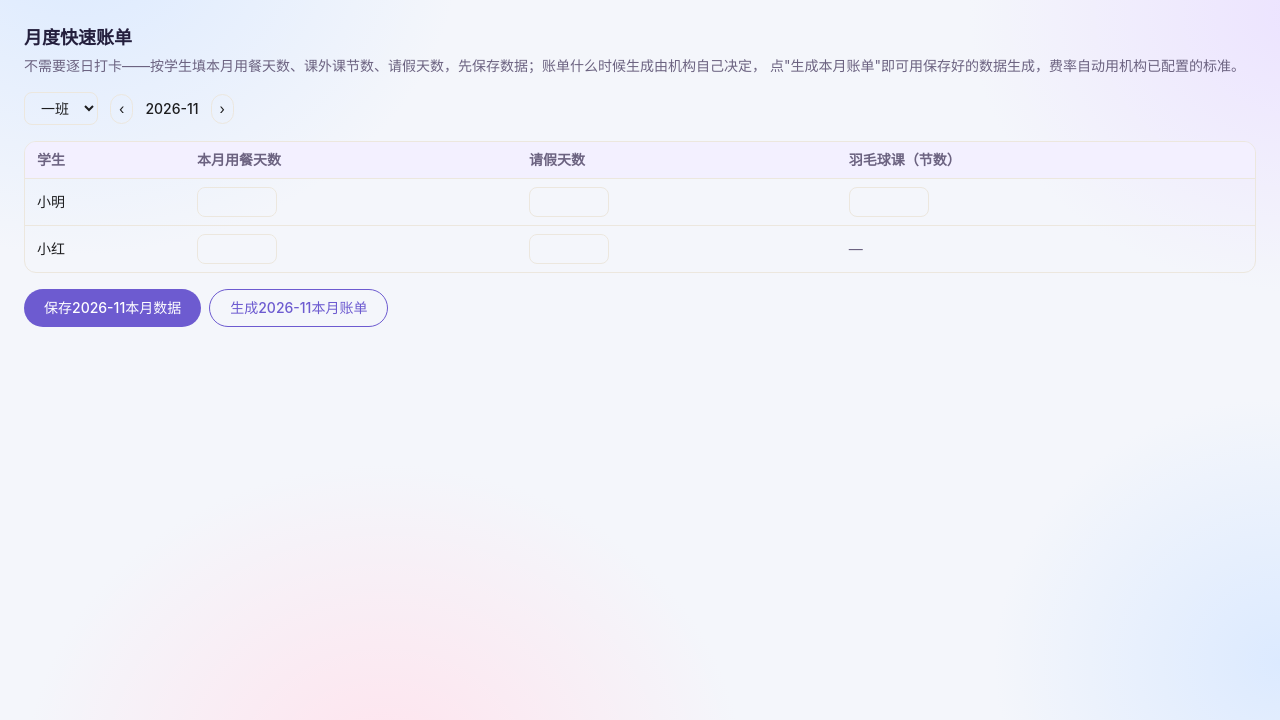
AdminMonthlyQuickBillModule › shows an error message when generating the bill fails
The image size is (1280, 720).
Check: the text "小明" is shown, box top-left (25, 178), bottom-right (185, 226)
What coordinates should you click on to do the following:
click the button "生成2026-11本月账单"
I would click on:
 (299, 308)
Its box is top-left (209, 289), bottom-right (388, 327).
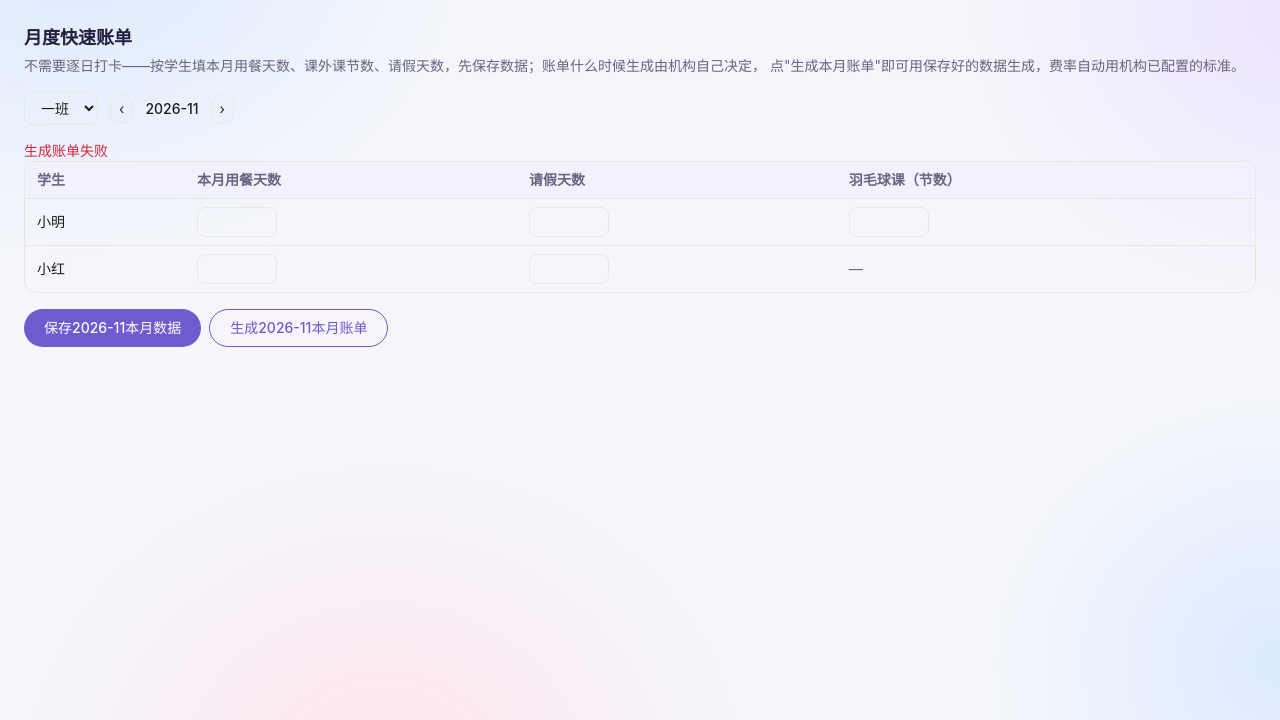
Check: the text "生成账单失败" is shown, box top-left (24, 142), bottom-right (108, 159)
